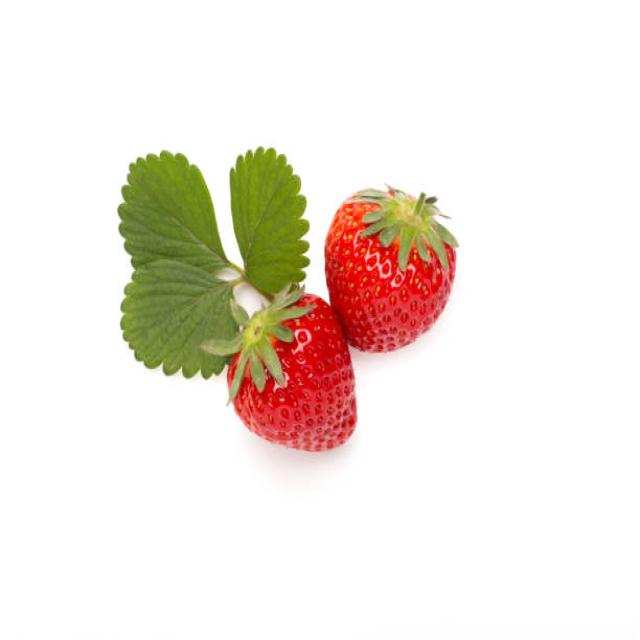Healthy Fruit: (324, 187, 456, 356), (227, 293, 357, 452)
